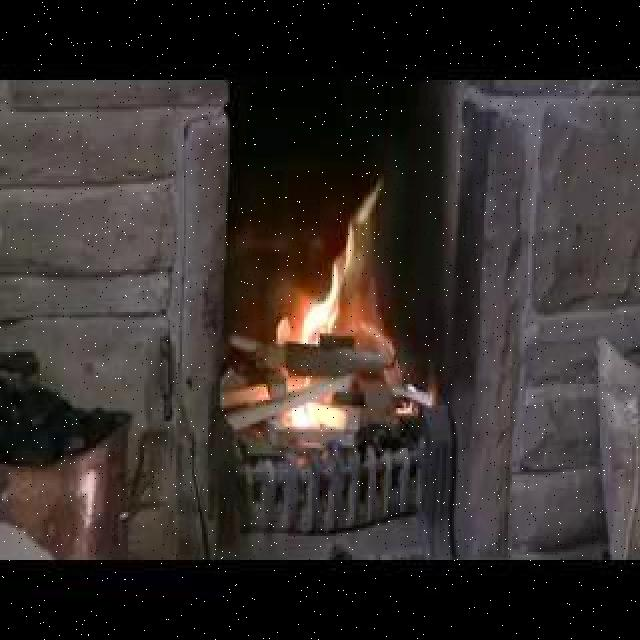fire: (296, 188, 379, 346), (288, 398, 344, 431)
